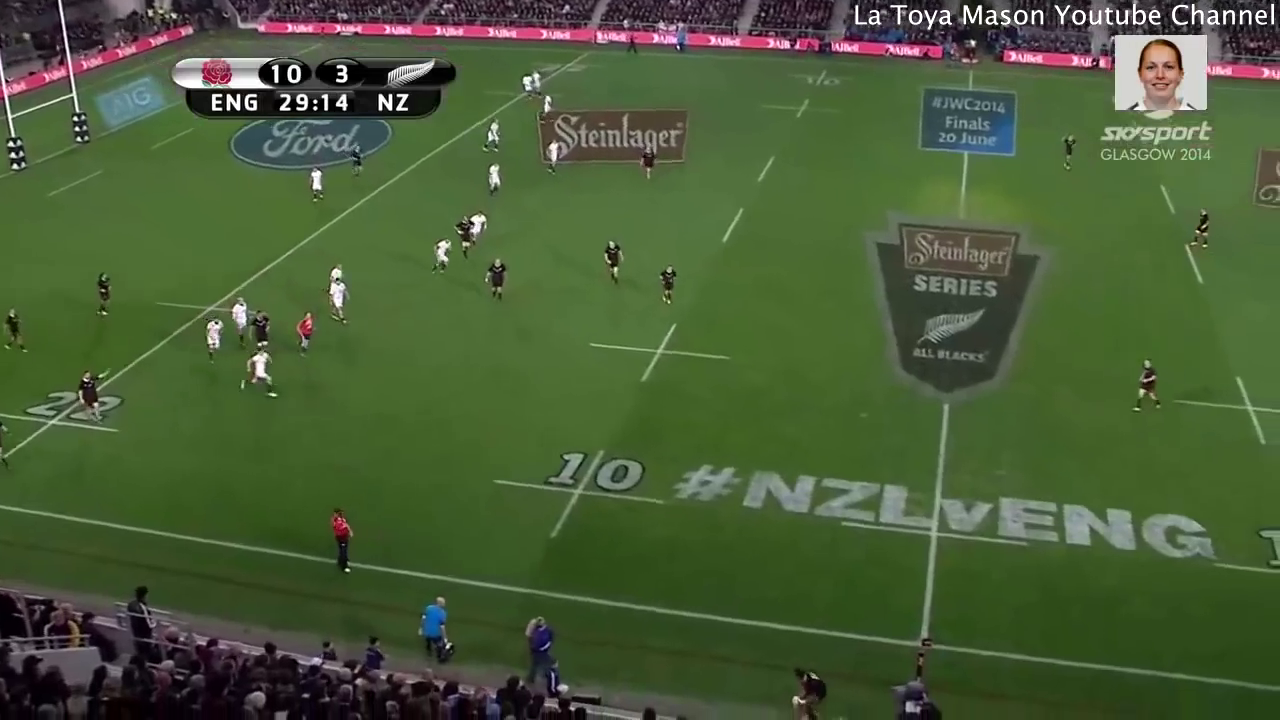10_metre: (485, 442, 667, 545), (585, 321, 736, 385), (761, 93, 841, 122), (782, 68, 855, 95)
player: (326, 508, 357, 580), (71, 368, 109, 425), (241, 344, 278, 400), (1134, 357, 1164, 420), (1185, 206, 1216, 256), (89, 268, 119, 317), (478, 254, 507, 304), (601, 236, 628, 289), (2, 304, 28, 358), (199, 308, 223, 364), (656, 259, 681, 308), (225, 295, 249, 346), (1056, 128, 1078, 178), (291, 311, 314, 357), (329, 276, 349, 327), (428, 236, 450, 277), (484, 163, 507, 201), (246, 311, 268, 350), (304, 164, 325, 204), (465, 213, 488, 249), (484, 116, 505, 153), (349, 144, 367, 183), (544, 139, 561, 175), (641, 143, 657, 180), (453, 220, 469, 255), (539, 92, 555, 121), (328, 263, 350, 280), (531, 68, 543, 98), (520, 70, 531, 102)
post: (1, 1, 95, 177)
